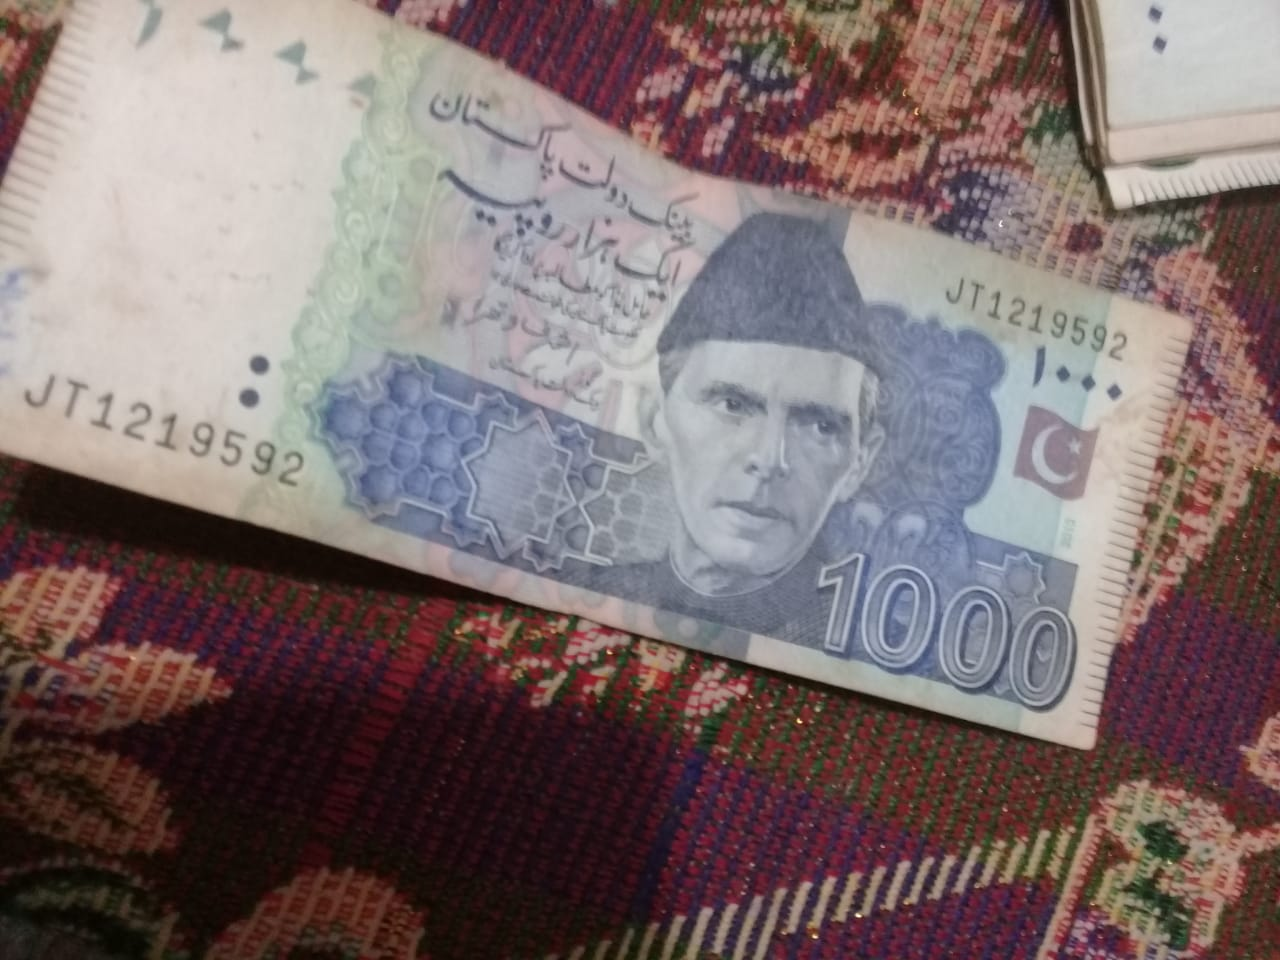1000 rupee: (11, 6, 1220, 770)
